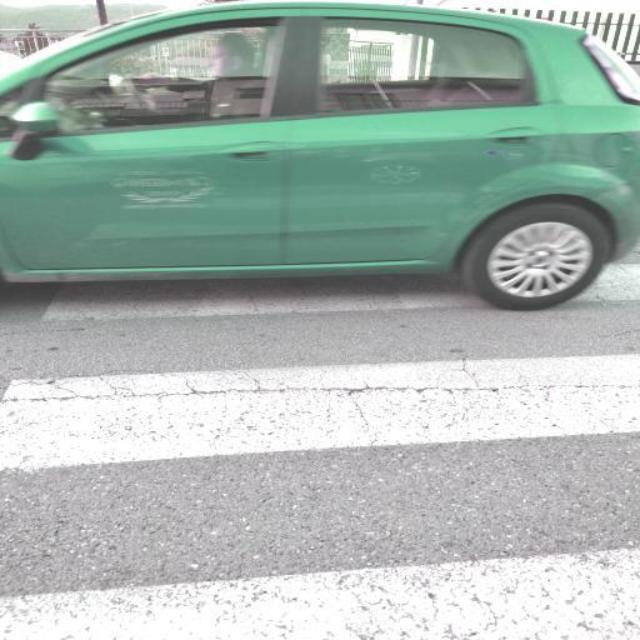sidewalk: (0, 266, 638, 639)
